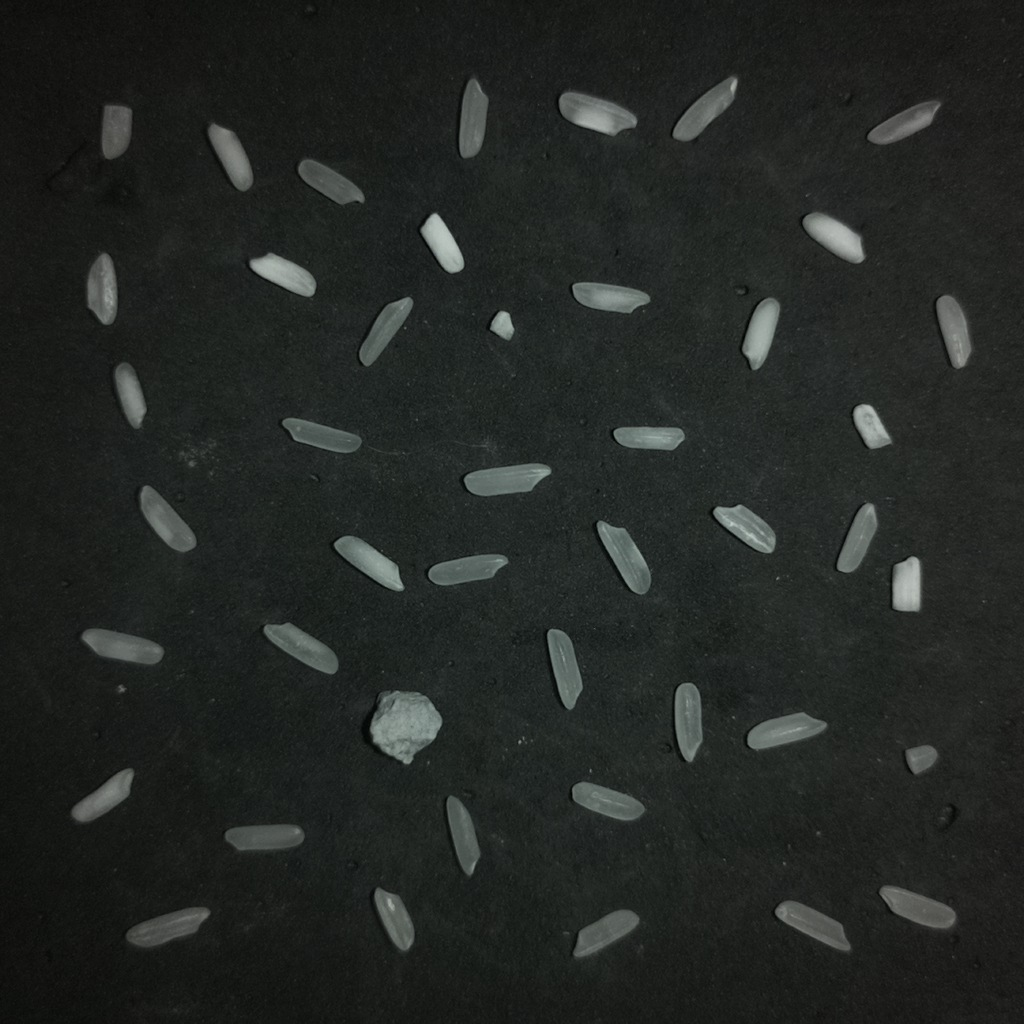broken: (370, 691, 442, 764), (904, 745, 937, 774), (489, 310, 515, 341)
chalky: (672, 76, 738, 142), (333, 535, 404, 591), (596, 521, 650, 594), (138, 485, 196, 552), (125, 907, 211, 948), (558, 91, 637, 135), (71, 768, 134, 823), (867, 100, 940, 144), (802, 213, 864, 263), (207, 123, 253, 190), (713, 505, 775, 553), (81, 628, 163, 664), (747, 712, 826, 749), (463, 463, 551, 495), (250, 253, 315, 296), (741, 299, 779, 370), (420, 212, 463, 273), (571, 283, 650, 313), (113, 362, 146, 428), (87, 253, 117, 325), (852, 404, 891, 448), (613, 426, 683, 450), (891, 556, 921, 611), (101, 104, 131, 159)
whole: (358, 296, 413, 366), (263, 623, 338, 674), (775, 900, 850, 951), (879, 886, 956, 928), (573, 909, 639, 957), (297, 159, 364, 204), (547, 629, 582, 709), (282, 418, 361, 453), (836, 503, 876, 572), (572, 782, 644, 820), (446, 796, 480, 876), (935, 295, 971, 368), (374, 887, 414, 951), (428, 554, 508, 586), (458, 77, 489, 159), (674, 683, 702, 762), (224, 824, 304, 851)
